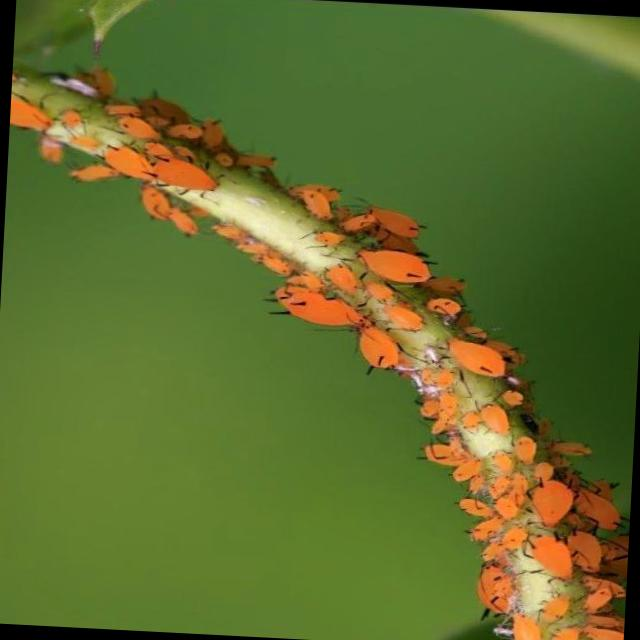aphid: (244, 274, 364, 334), (332, 232, 450, 290), (132, 150, 242, 199), (429, 332, 528, 384), (82, 126, 160, 189), (340, 318, 422, 377), (514, 472, 584, 535), (354, 198, 428, 235), (165, 204, 208, 243)
